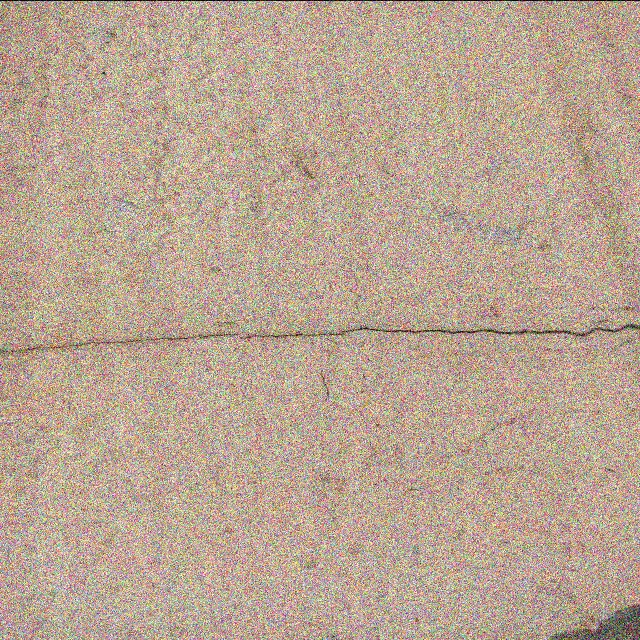SurfaceCrack: (0, 269, 639, 404)
